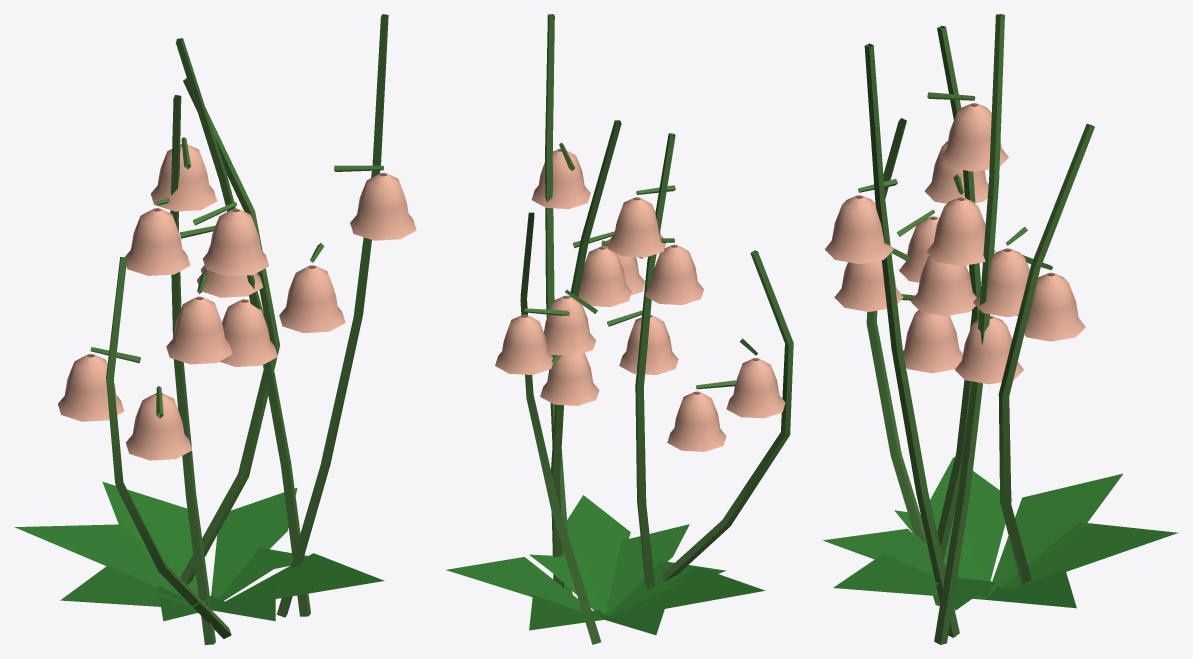
File: fiori_b.glb
3 views of the same model, side by side, from view 1: azimuth 30°, elevation 25°; view 2: azimuth 150°, elevation 25°; view 3: azimuth 270°, elevation 25° (orthographic). The views are drawn at different scales.
Visible parts, largest first — view 1: fiori; view 2: fiori; view 3: fiori.
Boxes of the visible parts, <box> form: fiori: <box>14,14,416,644</box>; fiori: <box>446,14,793,644</box>; fiori: <box>822,14,1178,644</box>.
Size of the model in its own units: 0.2533 by 0.475 by 0.2464.
